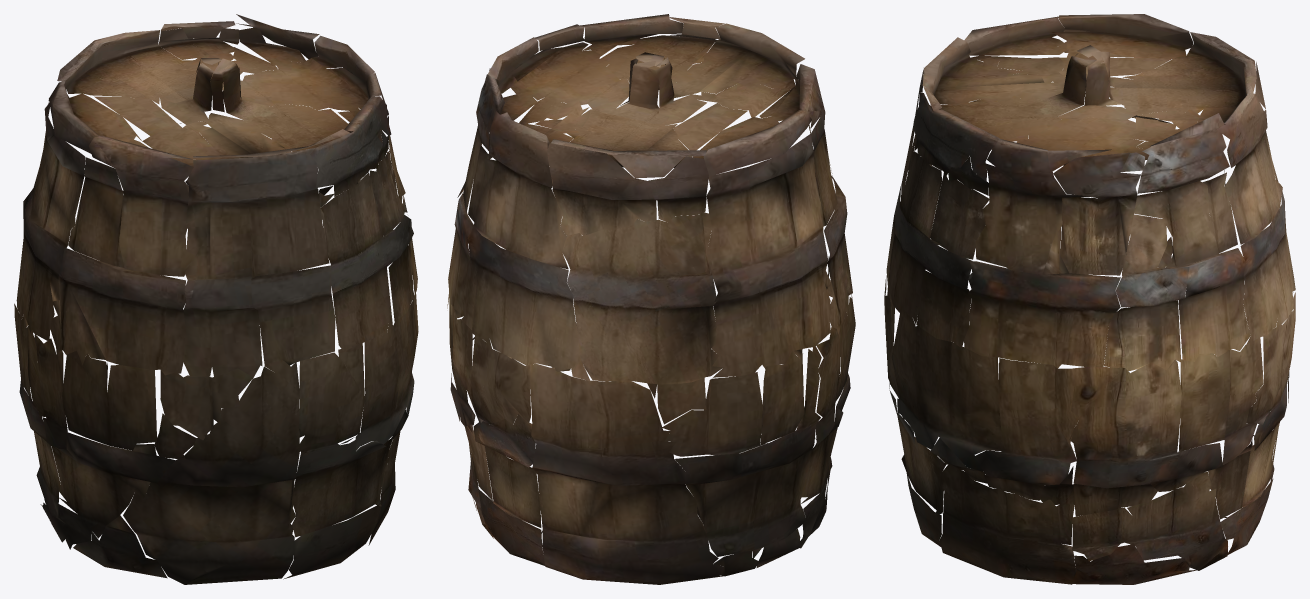
File: barrel.glb
3 renders of one model, left to right at view 1: azimuth 30°, elevation 25°; view 2: azimuth 150°, elevation 25°; view 3: azimuth 270°, elevation 25°, orthographic.
Visible parts, largest first — view 1: tripo_node_8a4dd076-8bf4-46f3-afb6-5d9b732f1b55; view 2: tripo_node_8a4dd076-8bf4-46f3-afb6-5d9b732f1b55; view 3: tripo_node_8a4dd076-8bf4-46f3-afb6-5d9b732f1b55.
Boxes of the visible parts, x1,y1,x2,y2 form: tripo_node_8a4dd076-8bf4-46f3-afb6-5d9b732f1b55: (14,14,418,584); tripo_node_8a4dd076-8bf4-46f3-afb6-5d9b732f1b55: (447,14,855,584); tripo_node_8a4dd076-8bf4-46f3-afb6-5d9b732f1b55: (884,14,1295,584).
Bounding box in the file's own units: 0.825 × 1.01 × 0.8126.
Materials: 1 (1 with a texture image).
